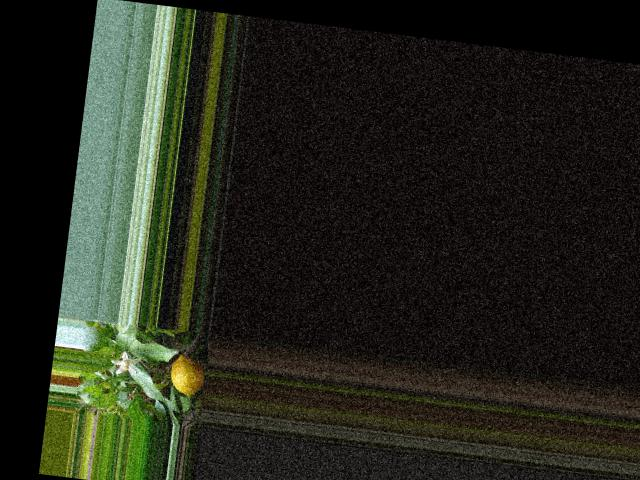lemon: (163, 350, 207, 398)
